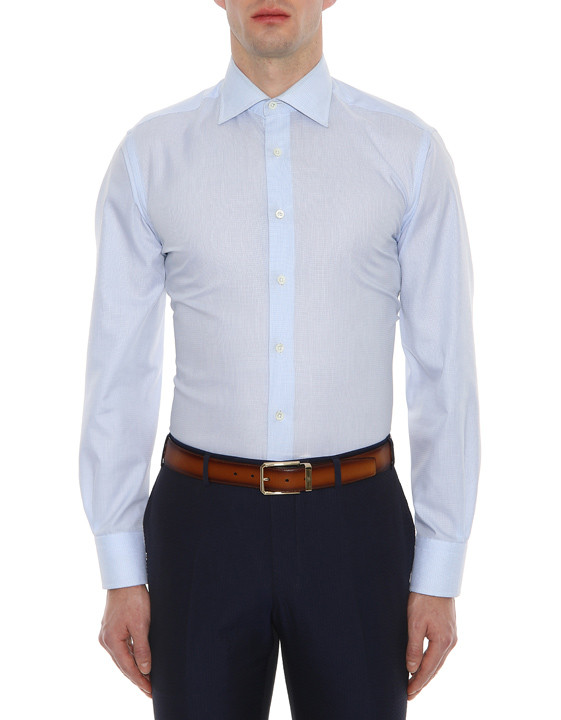F_belt: (152, 431, 398, 499)
F_dress pants: (130, 477, 428, 715)
F_shirt: (86, 64, 484, 610)
